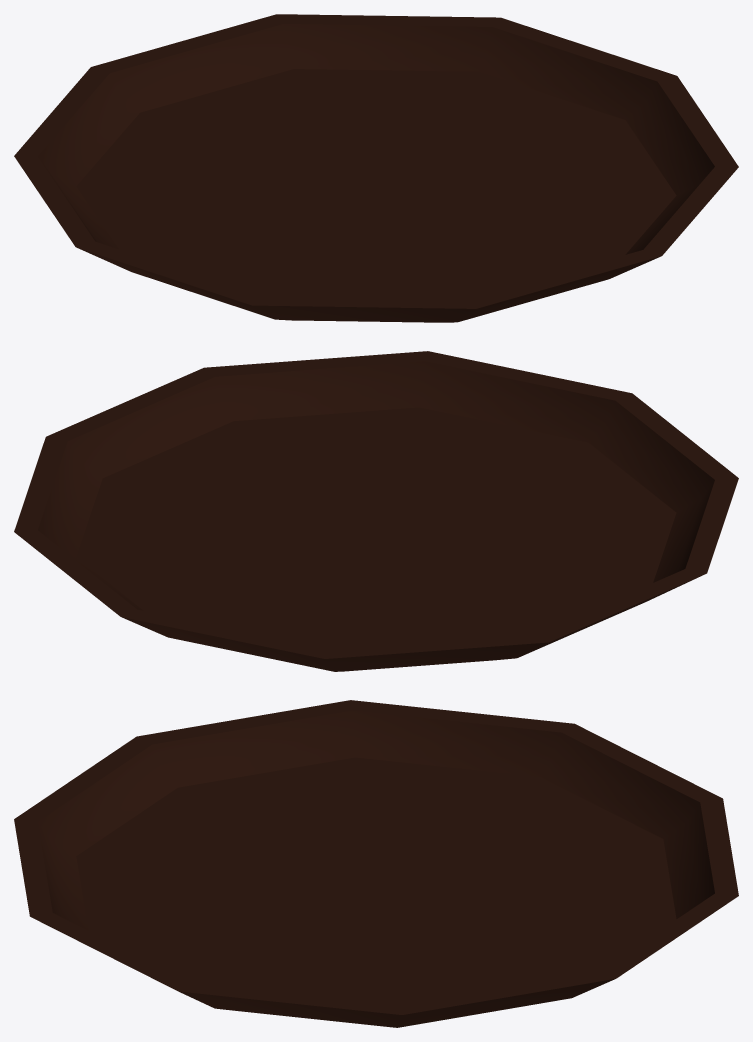
The model's file is Piatto 3 .fbx.
3 views of the same model, one above another, from view 1: azimuth 30°, elevation 25°; view 2: azimuth 150°, elevation 25°; view 3: azimuth 270°, elevation 25° (orthographic). The views are drawn at different scales.
Visible parts, largest first — view 1: Plate 1.005; view 2: Plate 1.005; view 3: Plate 1.005.
Boxes of the visible parts, x1=… form: Plate 1.005: x1=14, y1=14, x2=738, y2=322; Plate 1.005: x1=14, y1=351, x2=738, y2=671; Plate 1.005: x1=14, y1=700, x2=738, y2=1027.
Bounding box in the file's own units: 77.61 × 7.11 × 75.47.
